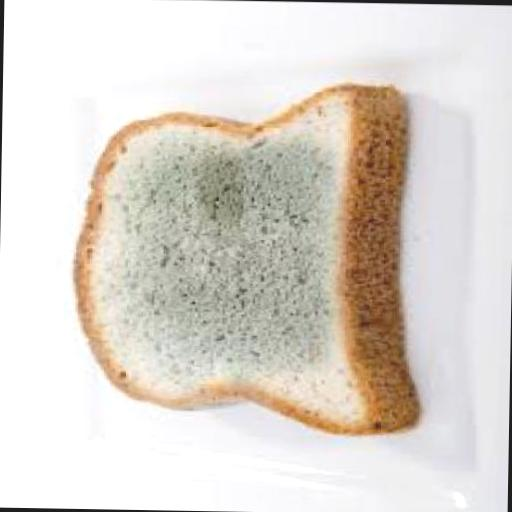biodegradable: (68, 80, 426, 438)
